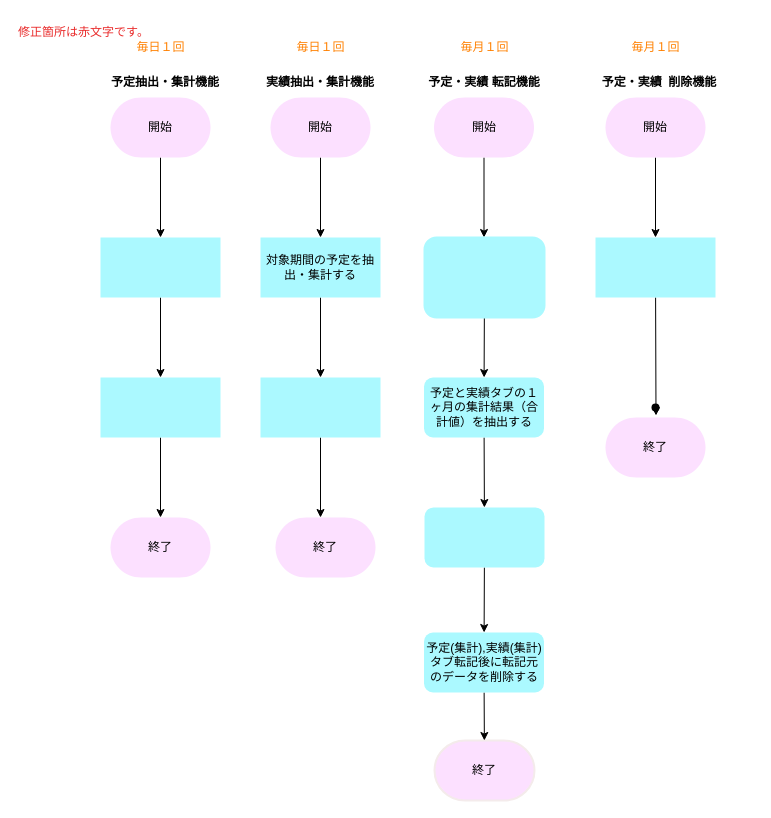
Image size: 771x818. Some labels were removed from this diagram. Here are the shapes that lost their labels. From the top down, the centre of each, then its label:
point (160, 267): 対象期間の予定抽出・集計
point (484, 277): 予定、実績タブの１ヶ月分を、それぞれの (日毎)タブ に列を日毎に転記する
point (655, 267): 毎月、予定・実績の 区分１:区分2:が0の行を削除する
point (160, 407): 集計結果を予定タブに記載
point (320, 407): 集計結果を実績タブに記載する
point (484, 537): 集計結果を予定(集計)、実績(集計)タブに転記する
